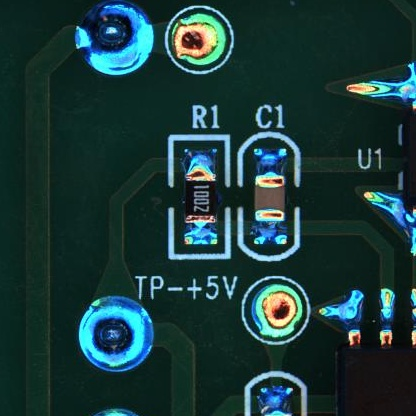spot: (75, 3, 155, 78), (80, 295, 155, 370), (170, 12, 226, 66), (254, 284, 304, 340)
